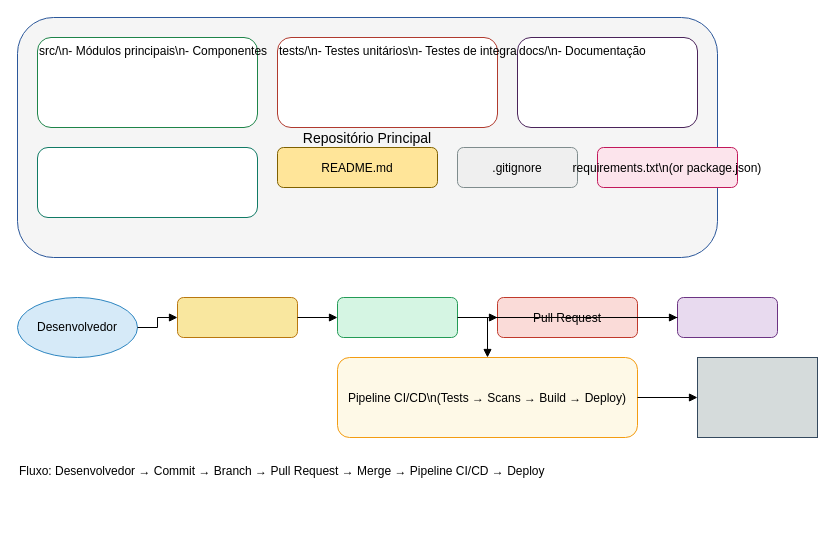
The diagram is 835 pixels wide and 535 high, and some of its shapes have lost their labels. Each missing label, with the centre of its shape:
Branch: the point at 397,317
Commit: the point at 237,317
config/\n- Lint / Build / CI: the point at 147,182
Deploy: the point at 757,397
Merge: the point at 727,317
